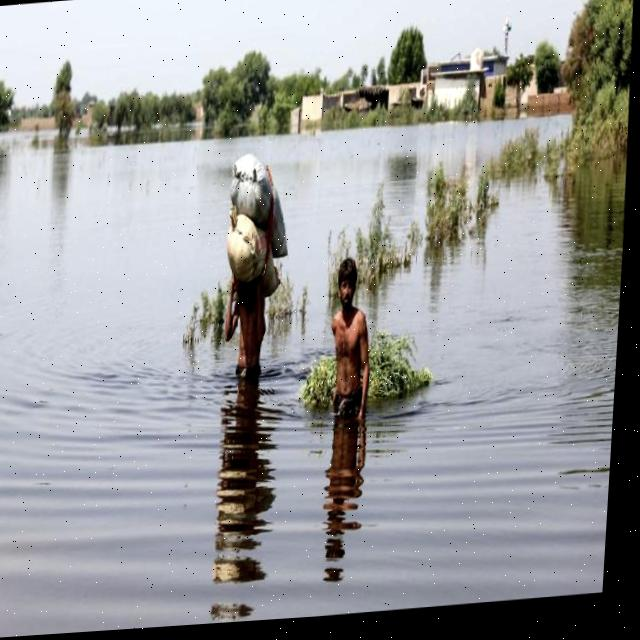civilian: (320, 253, 388, 420), (209, 260, 287, 390)
